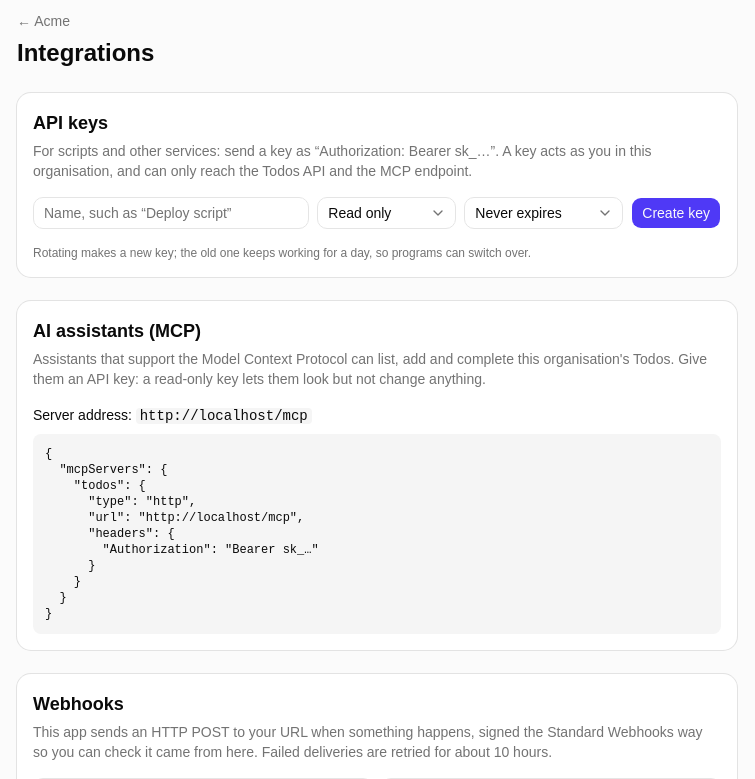
IntegrationsPage › creates an API key and shows it once
This screenshot has width=755, height=779.
Type "Deploys" into the field named "Key name" at coordinates (171, 213), box top-left (33, 197), bottom-right (309, 229)
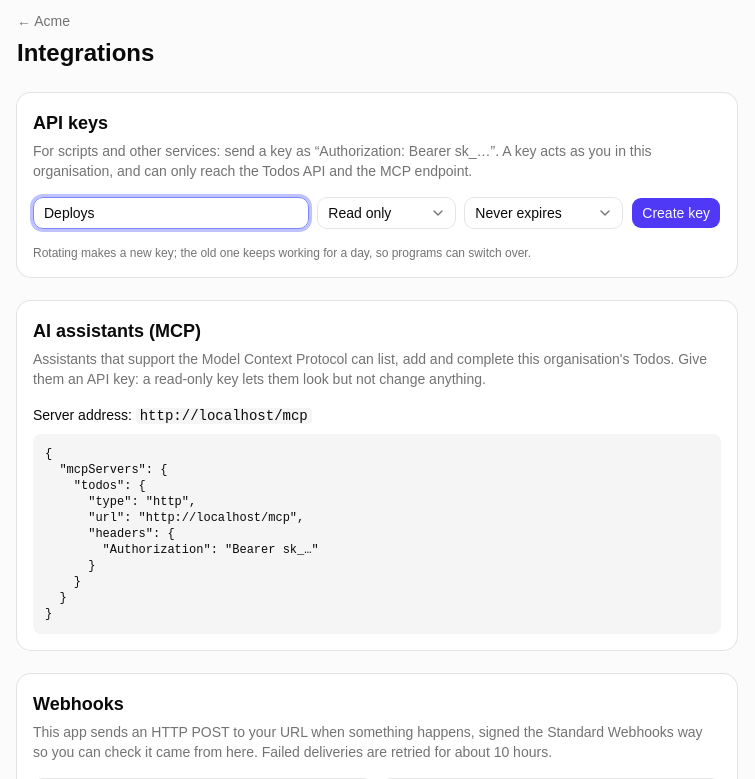
Click the button "Create key" at coordinates (676, 213), box top-left (631, 197), bottom-right (721, 229)
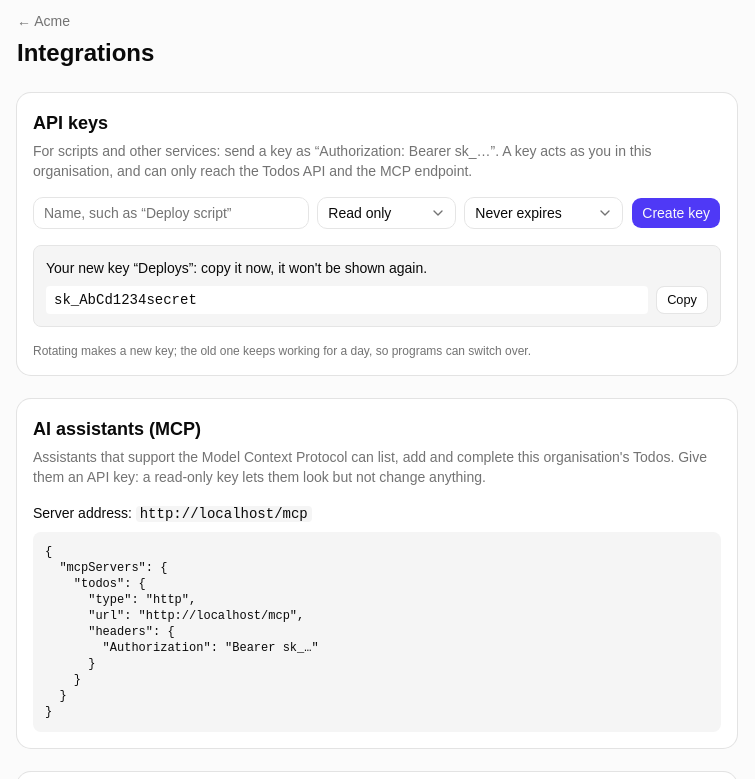
Result: the text named "Your new key “Deploys”" reads "sk_AbCd1234secret" at top-left (54, 292), bottom-right (197, 308)
